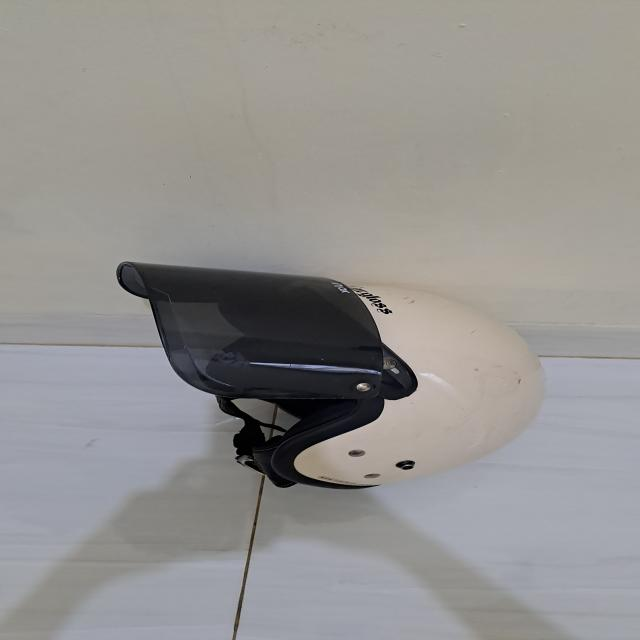Helm: (106, 260, 548, 493)
